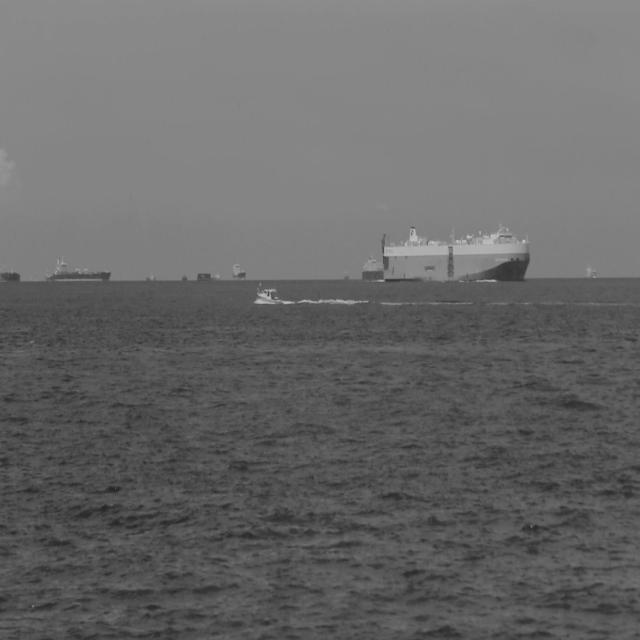ship: (379, 222, 530, 284), (42, 255, 112, 284), (255, 281, 283, 305), (361, 254, 384, 282), (230, 260, 246, 282), (0, 268, 20, 284), (196, 271, 212, 283), (144, 272, 156, 284), (180, 272, 188, 282), (214, 272, 221, 282)
